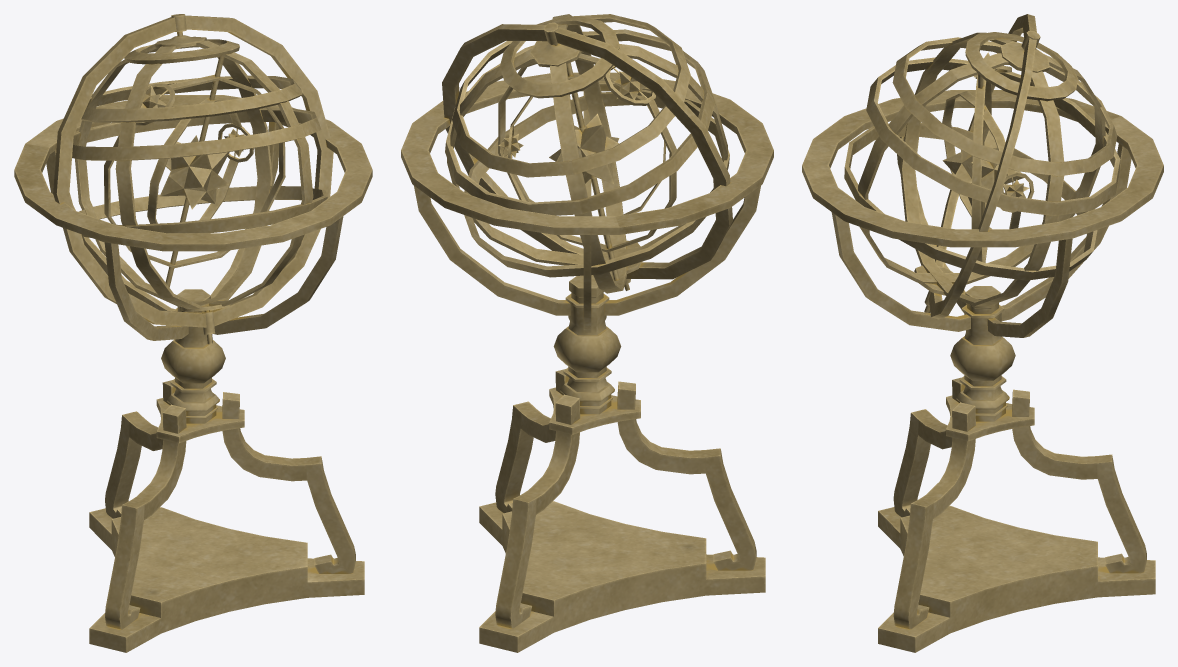
The model's file is BgMD_CelestialGlobe.fbx.
3 views of the same model, side by side, from view 1: azimuth 30°, elevation 25°; view 2: azimuth 150°, elevation 25°; view 3: azimuth 270°, elevation 25° (orthographic). The views are drawn at different scales.
Parts seen in each view (by area): view 1: BgMD_CelestialGlobe_parts_01_low; view 2: BgMD_CelestialGlobe_parts_01_low; view 3: BgMD_CelestialGlobe_parts_01_low.
Boxes of the visible parts, bbox=[...] form: BgMD_CelestialGlobe_parts_01_low: bbox=[14, 14, 372, 652]; BgMD_CelestialGlobe_parts_01_low: bbox=[401, 14, 773, 652]; BgMD_CelestialGlobe_parts_01_low: bbox=[802, 14, 1163, 652].
Bounding box in the file's own units: 463 × 799 × 470.
